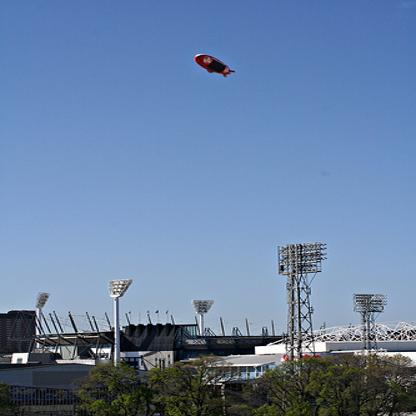Airship: (193, 51, 236, 81)
